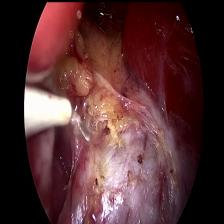Hook: (23, 82, 91, 150)
